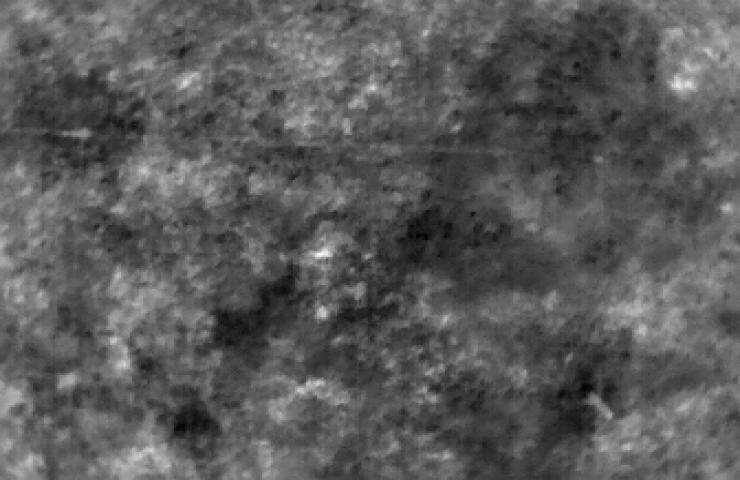landmines: (310, 245, 339, 271)
